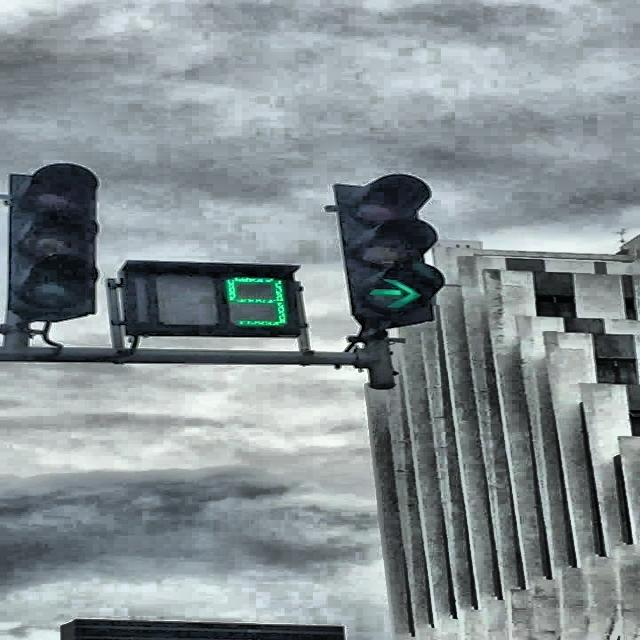green: (332, 174, 446, 326)
